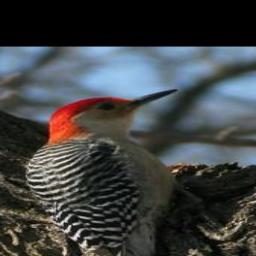Woodpecker: (18, 86, 209, 256)
